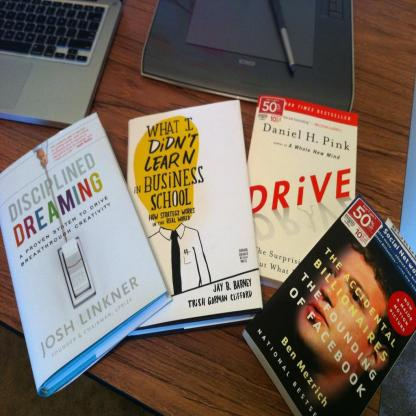board: (5, 0, 124, 123)
